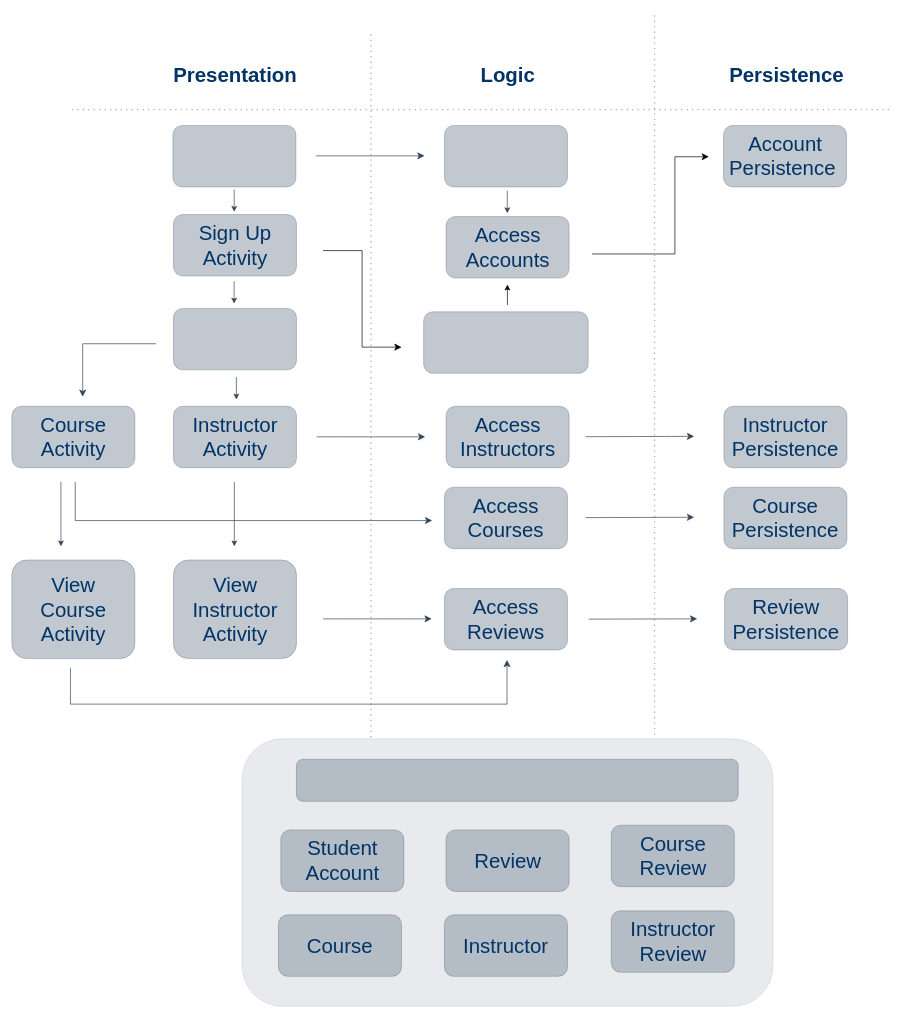
The diagram is 905 pixels wide and 1018 high, and some of its shapes have lost their labels. Here are the shapes that lost their labels. From the top down, the box of each, then its label:
(172, 125, 296, 187): Start Up Activity
(444, 125, 567, 187): Authenticate Log In
(173, 308, 296, 370): Home Activity
(423, 311, 588, 373): Student Account Manager
(296, 759, 738, 801): Domain Specific Objects
